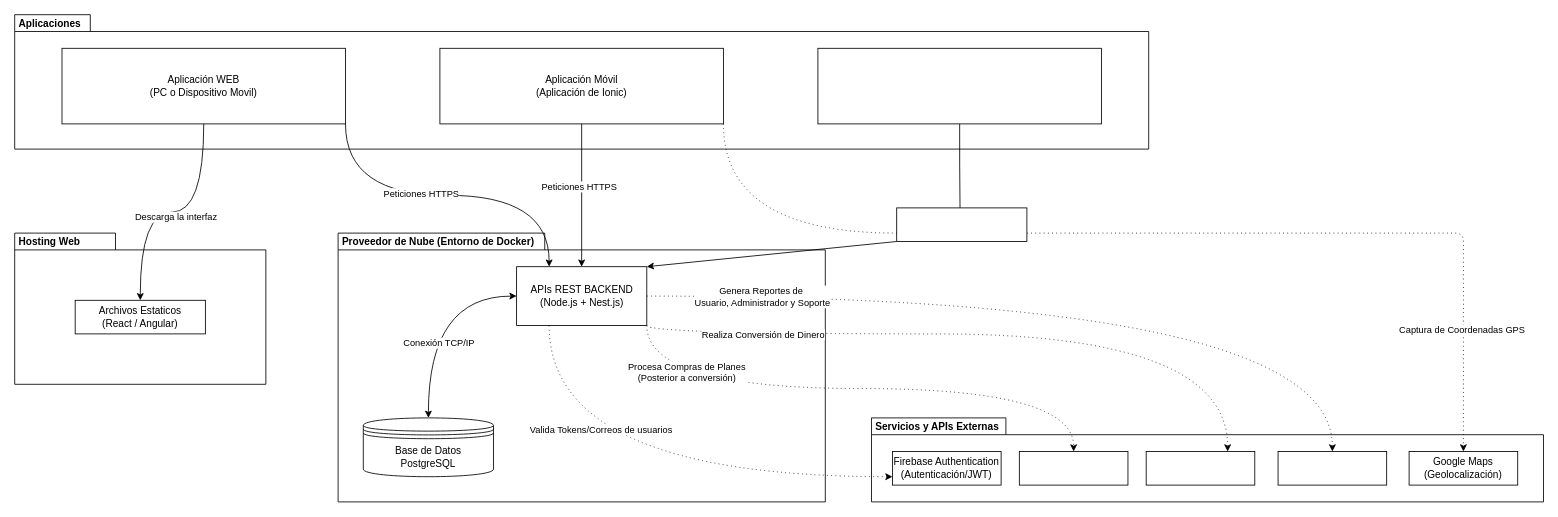
This 1558x517 diagram has some shape labels left out. Each missing label, with the centre of its shape:
"Aplicación de Escritorio (Ejecutable Electron)" belongs at (959,85).
"jsReport (Confección de Reportes)" belongs at (1332,468).
"Mindicador (Conversor de Divisas)" belongs at (1200,468).
"Paypal (Pasarela de Pago)" belongs at (1073,468).
"Peticiones HTTPS (Protegidos/Cifrados)" belongs at (961,224).
